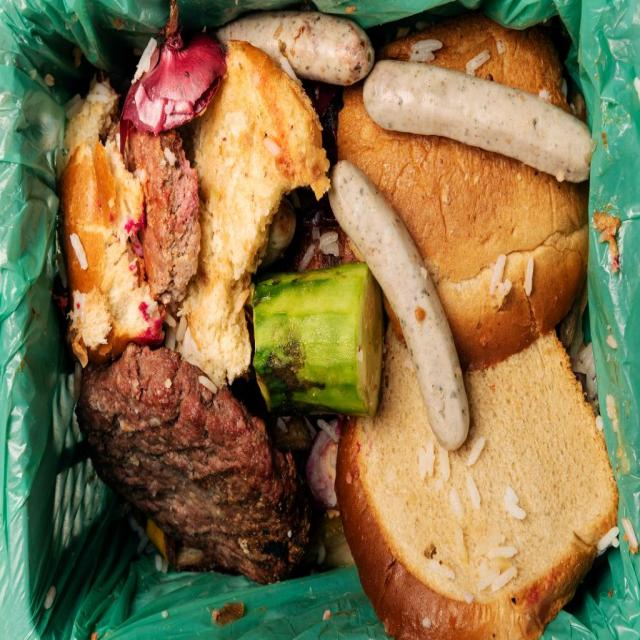Food -Biodegradable-: (59, 0, 624, 640)
